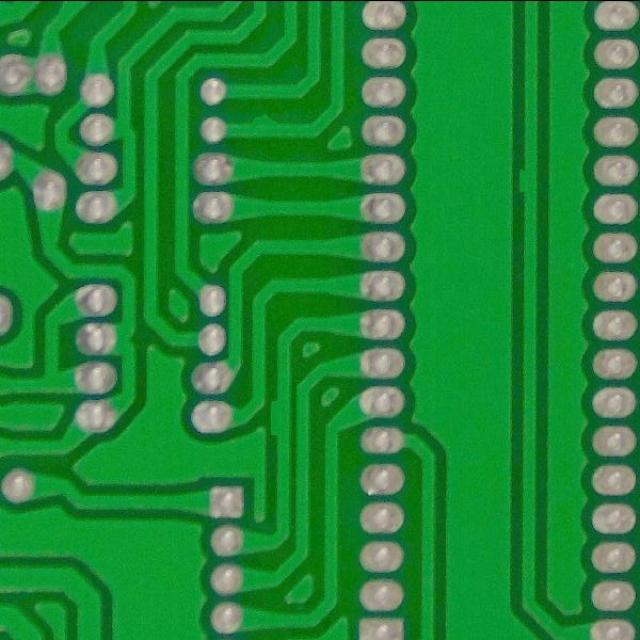spur: (244, 107, 285, 145), (512, 154, 535, 210), (263, 392, 286, 443)
